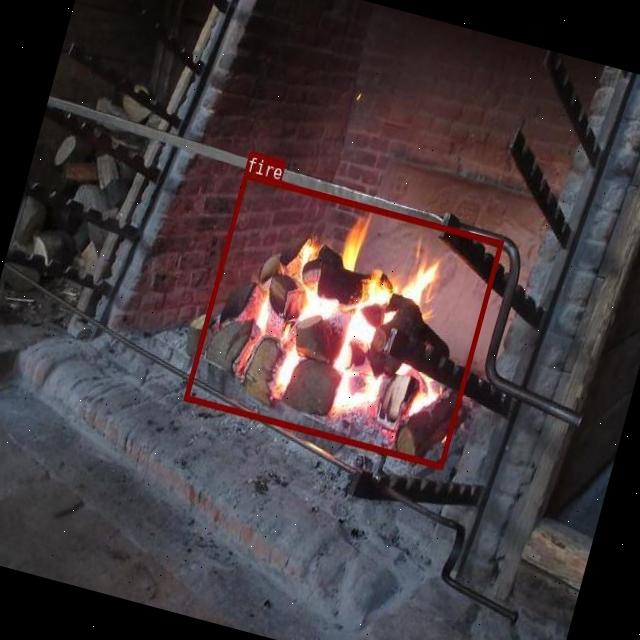fire: (183, 170, 502, 468)
